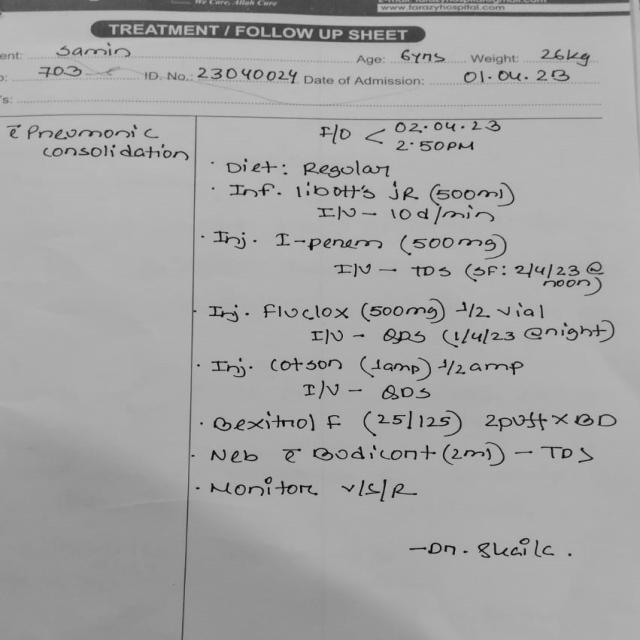medicine: (291, 179, 424, 204), (208, 410, 346, 434), (268, 228, 387, 254), (258, 298, 352, 324), (264, 352, 346, 377)
